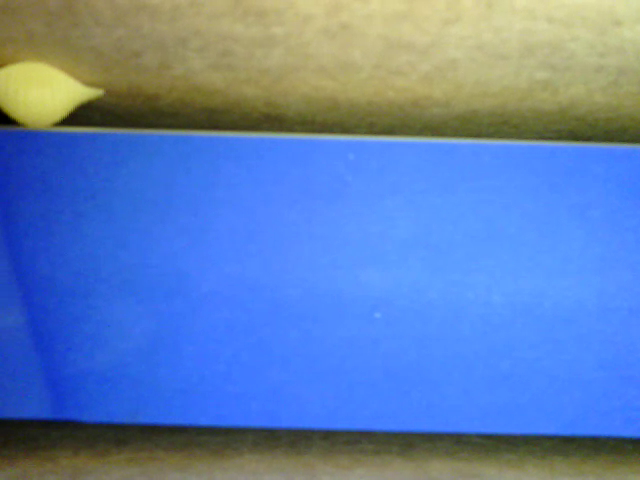shell: (1, 61, 107, 130)
